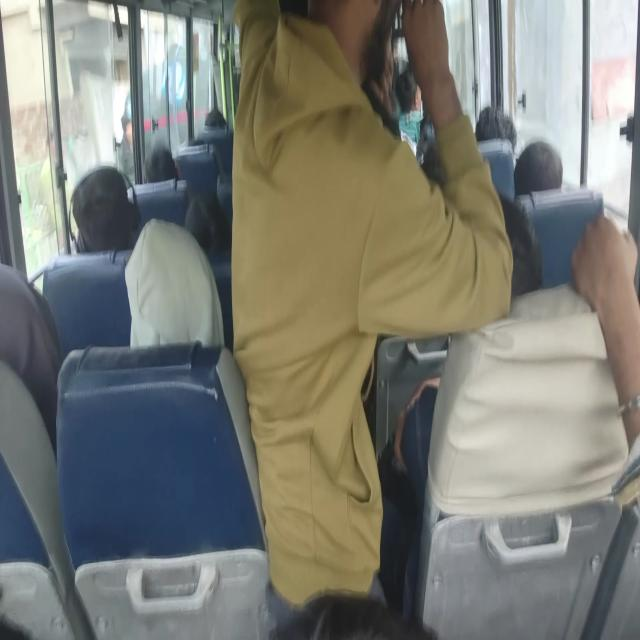person: (505, 134, 637, 470), (0, 256, 70, 626), (275, 0, 400, 165), (126, 221, 224, 350), (480, 241, 558, 376), (276, 595, 440, 638), (69, 167, 136, 248), (184, 188, 231, 254), (512, 140, 564, 196), (395, 64, 425, 156), (477, 141, 515, 204), (474, 105, 516, 148), (144, 144, 178, 185), (210, 145, 228, 177), (204, 108, 228, 129), (475, 122, 485, 144)
